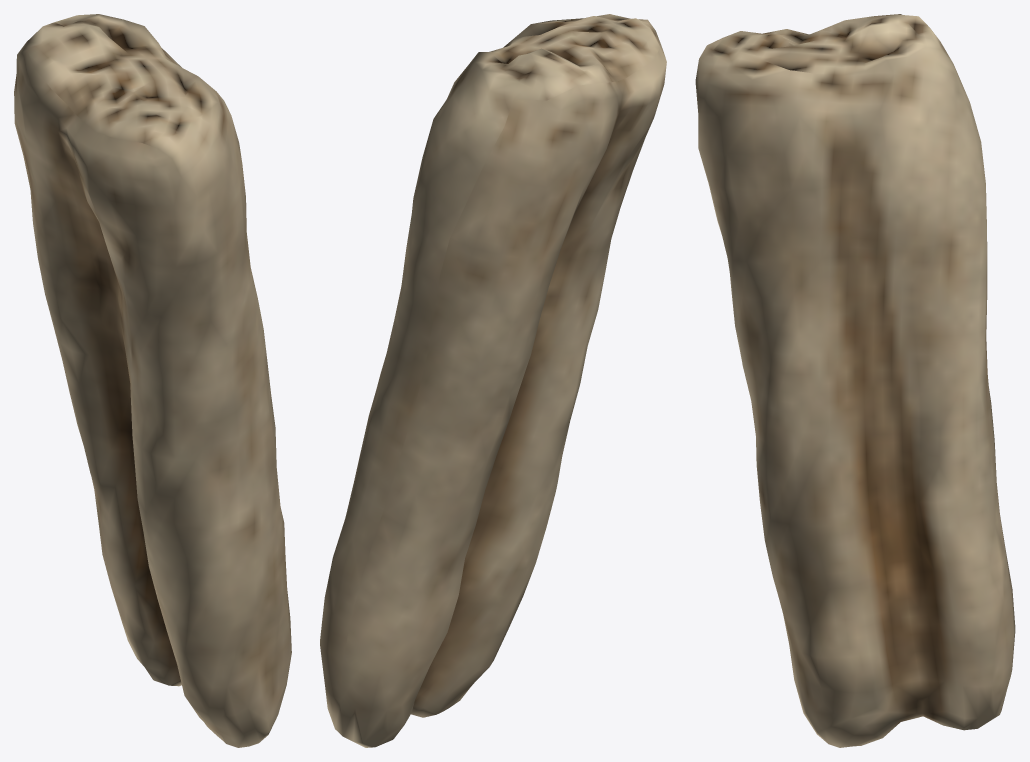
The model's file is Mandibular_Premolar4.glb.
3 views of the same model, side by side, from view 1: azimuth 30°, elevation 25°; view 2: azimuth 150°, elevation 25°; view 3: azimuth 270°, elevation 25° (orthographic). The views are drawn at different scales.
Visible parts, largest first — view 1: Group16363_Mesh.058; view 2: Group16363_Mesh.058; view 3: Group16363_Mesh.058.
Boxes of the visible parts, bbox=[...] form: Group16363_Mesh.058: bbox=[14, 14, 291, 747]; Group16363_Mesh.058: bbox=[320, 14, 666, 747]; Group16363_Mesh.058: bbox=[695, 14, 1015, 747].
Bounding box in the file's own units: 0.0254 × 0.0702 × 0.0307.
1 material, 1 textured.
